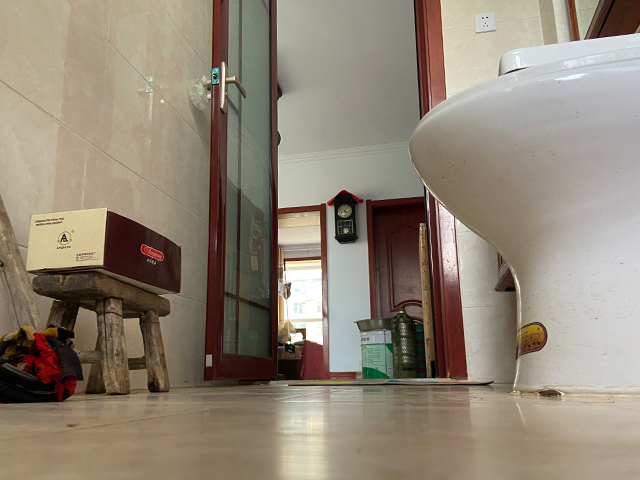carpet: (285, 377, 495, 387)
closestool: (407, 33, 640, 397)
stool: (30, 270, 172, 397)
